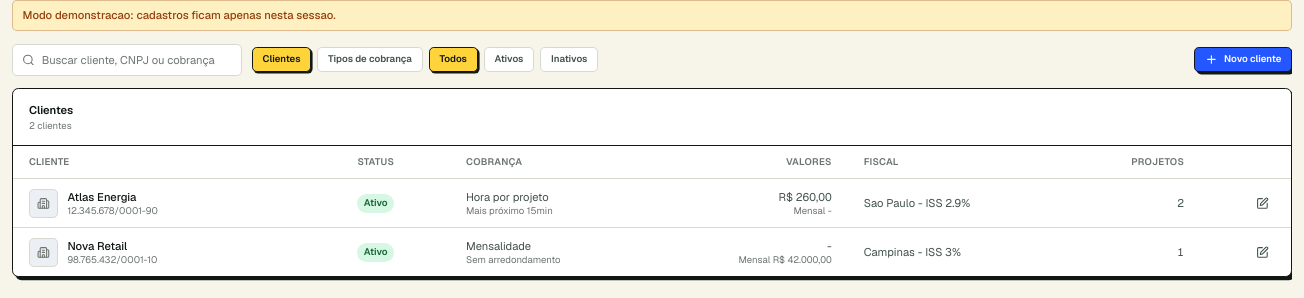
Test: ClientsView — subtela Tipos de cobrança (matriz) › mostra o chip e a aba quando concedida (padrão)
Click the button "Tipos de cobrança": click(370, 60) [318, 47, 422, 72]
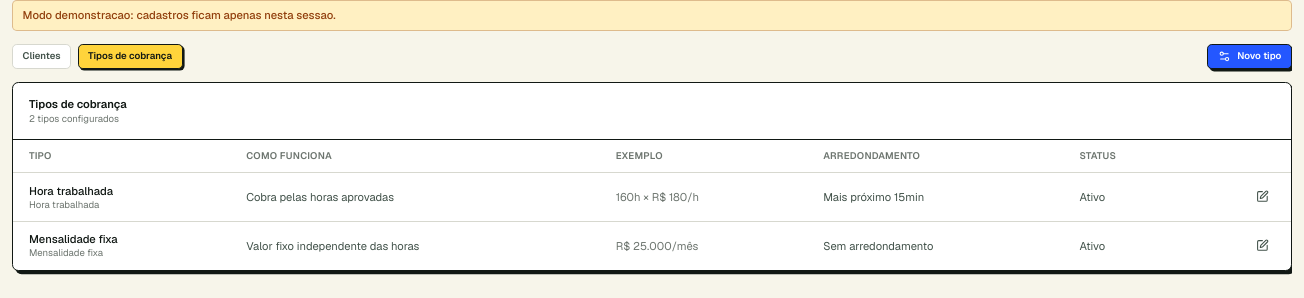
Expected: the button "Novo tipo" is shown, [1207, 44, 1292, 69]
